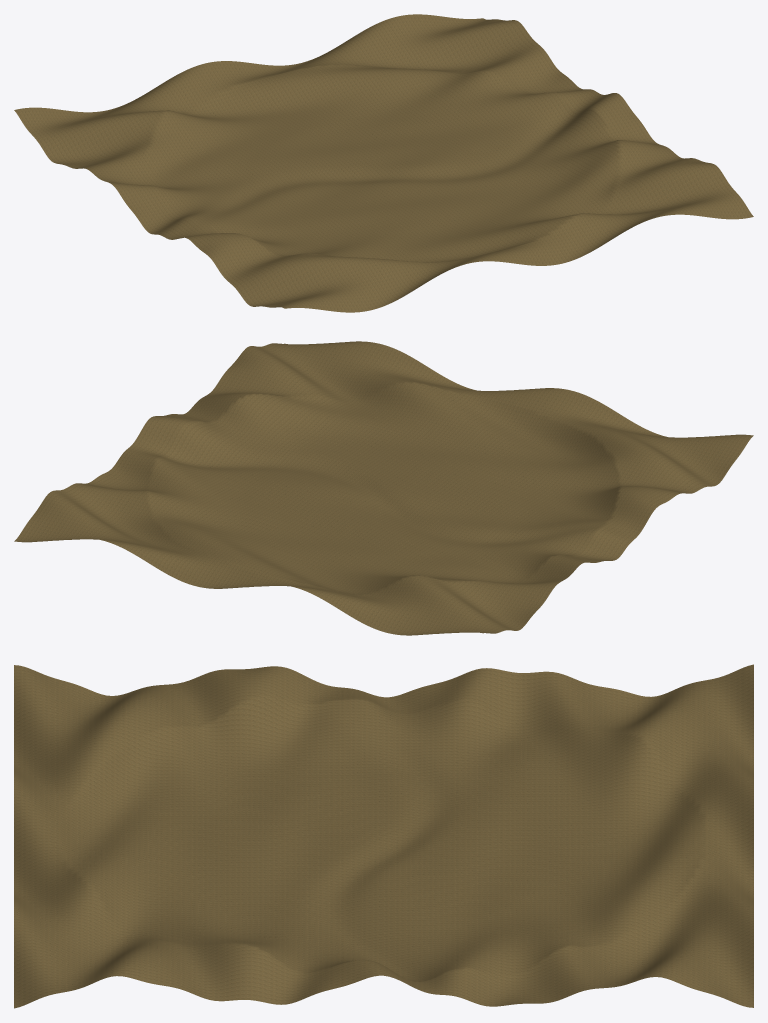
The model's file is MountainValley.glb.
3 renders of one model, top to bottom at view 1: azimuth 30°, elevation 25°; view 2: azimuth 150°, elevation 25°; view 3: azimuth 270°, elevation 25°, orthographic. The views are drawn at different scales.
Visible parts, largest first — view 1: Mountain valley; view 2: Mountain valley; view 3: Mountain valley.
Boxes of the visible parts, x1,y1,x2,y2 form: Mountain valley: (14, 14, 753, 312); Mountain valley: (14, 341, 753, 635); Mountain valley: (14, 664, 753, 1008).
Size of the model in its own units: 432 by 25.64 by 432.
1 material, 1 textured.
